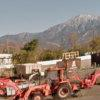Tractor: (8, 64, 94, 100)
